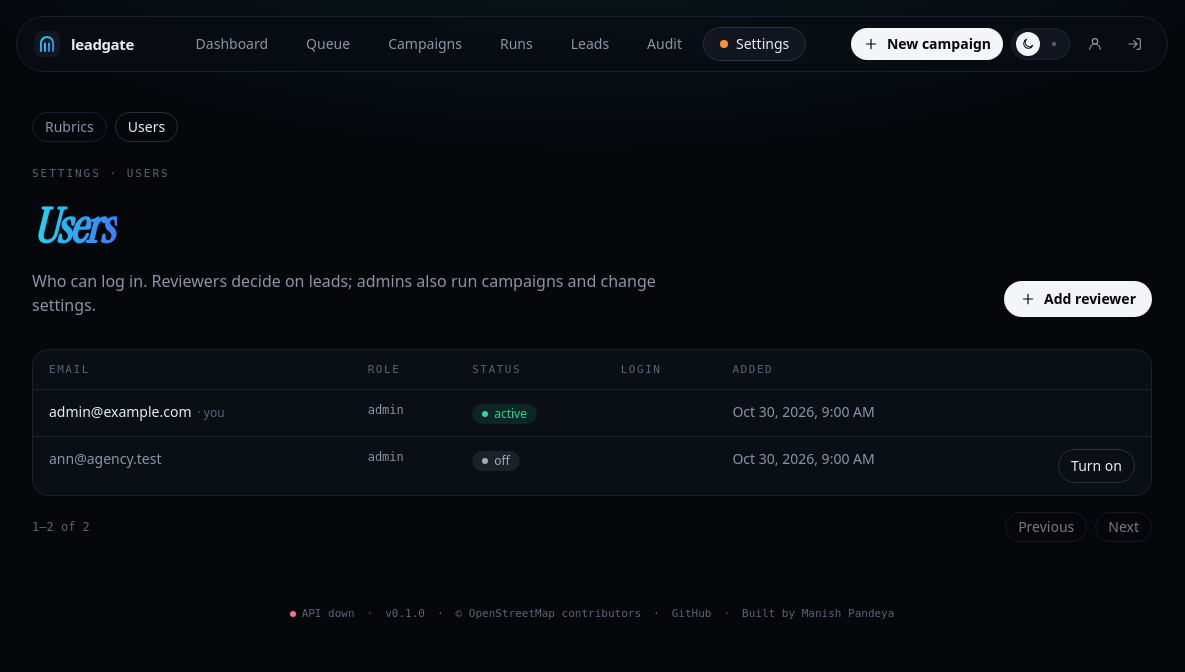
UsersPage, another admin › asks for your password before turning a former admin back on
Expected: the text "ann@agency.test" is shown, [33,437,352,495]
Click the button "Turn on". click: (1097, 466)
box: [1058,449,1135,483]
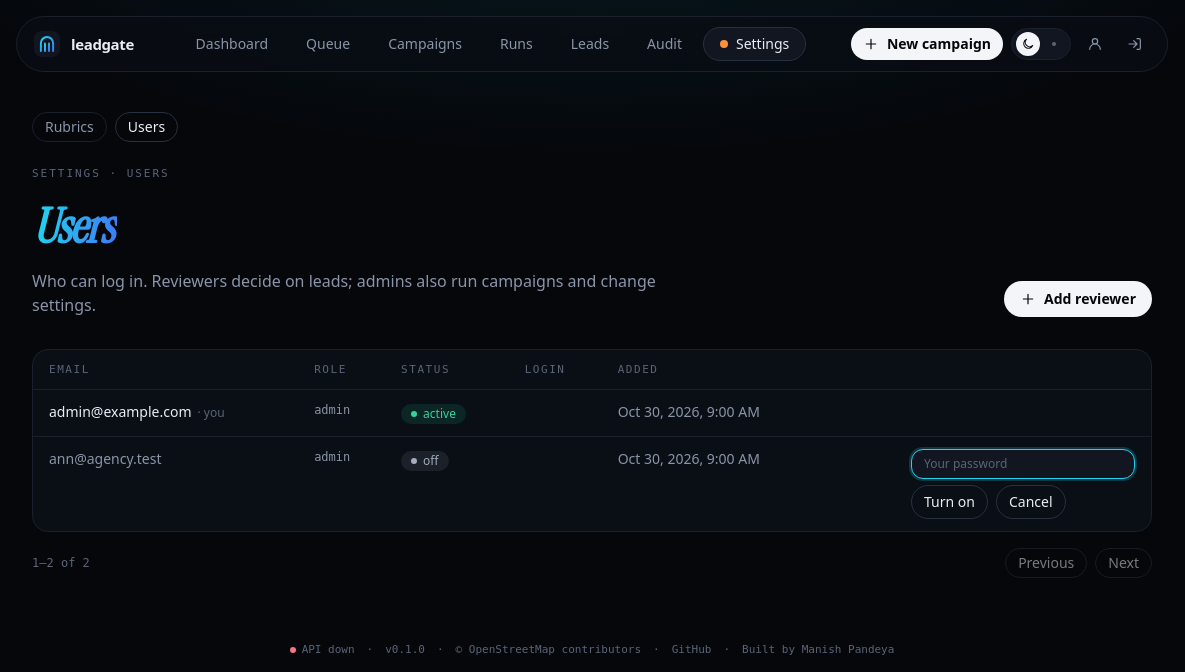
Type "my-password" into the password field labelled "Your password". click: (1023, 464)
box: [911,449,1135,479]
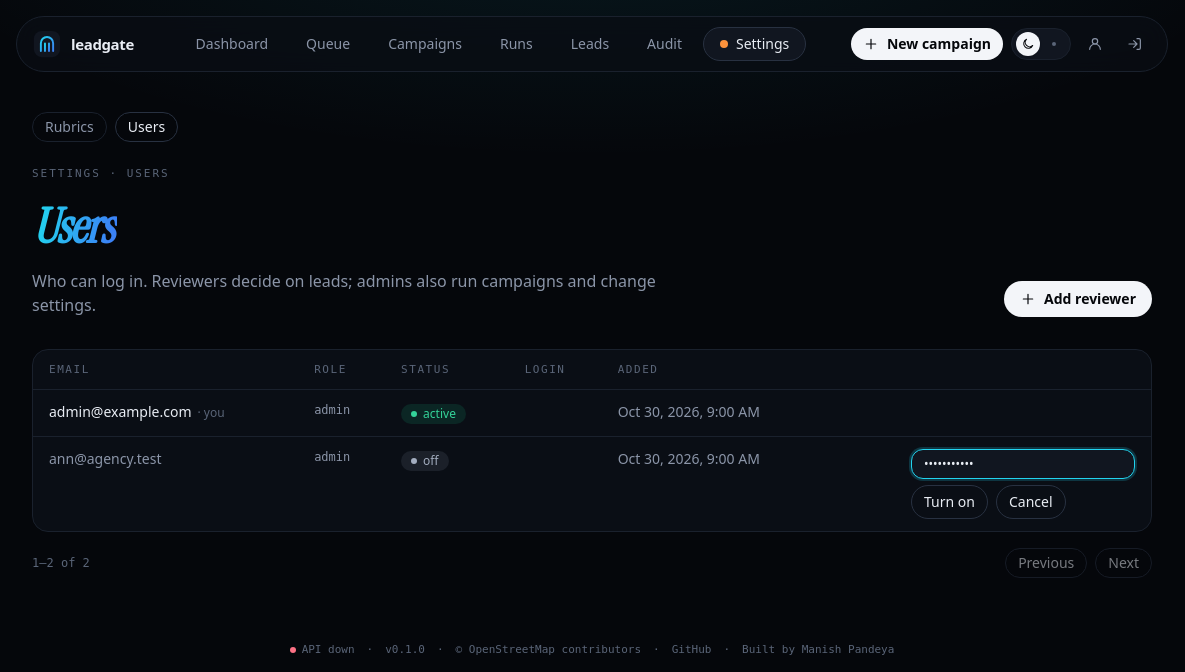
Click the button "Turn on". click: (949, 502)
box: [911,485,988,519]
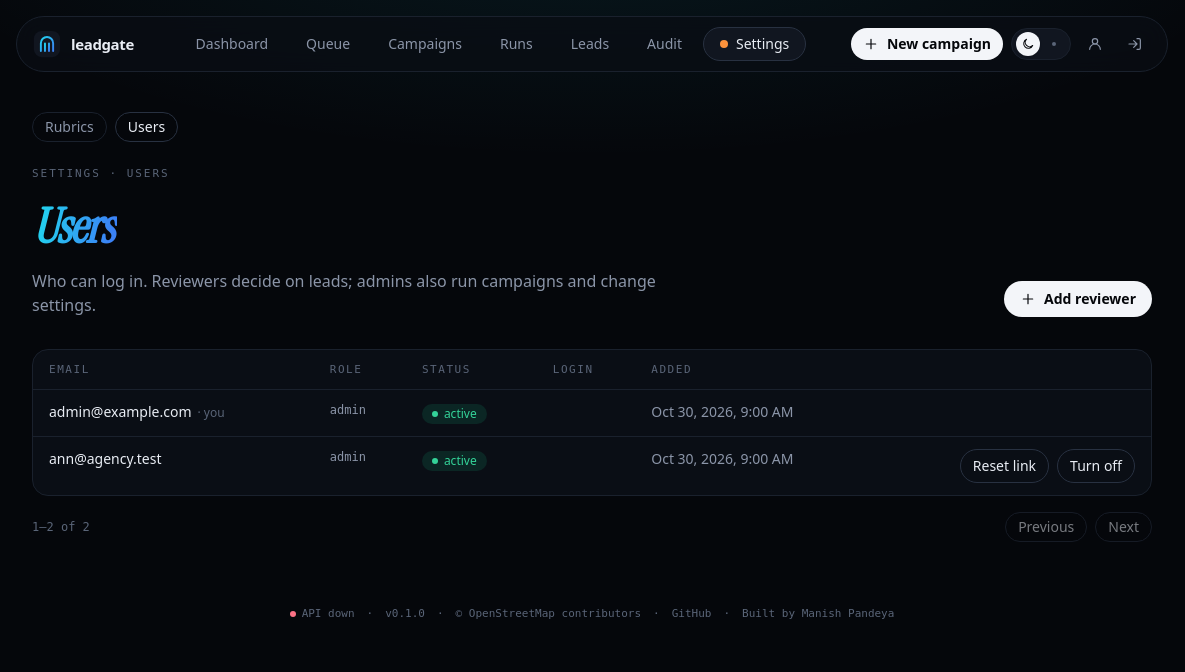
Expected: the button "Turn off" is shown, [1057,449,1135,483]
Expected: the password field labelled "Your password" is gone
